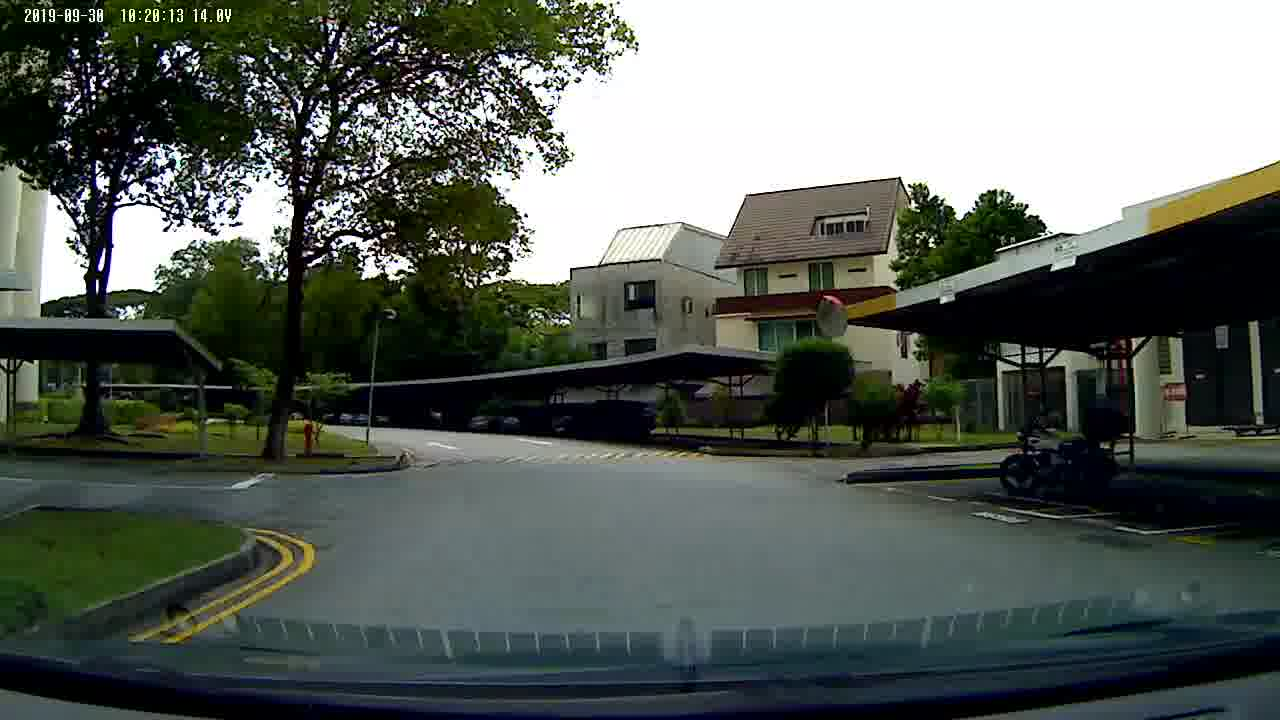car: (546, 399, 660, 443)
